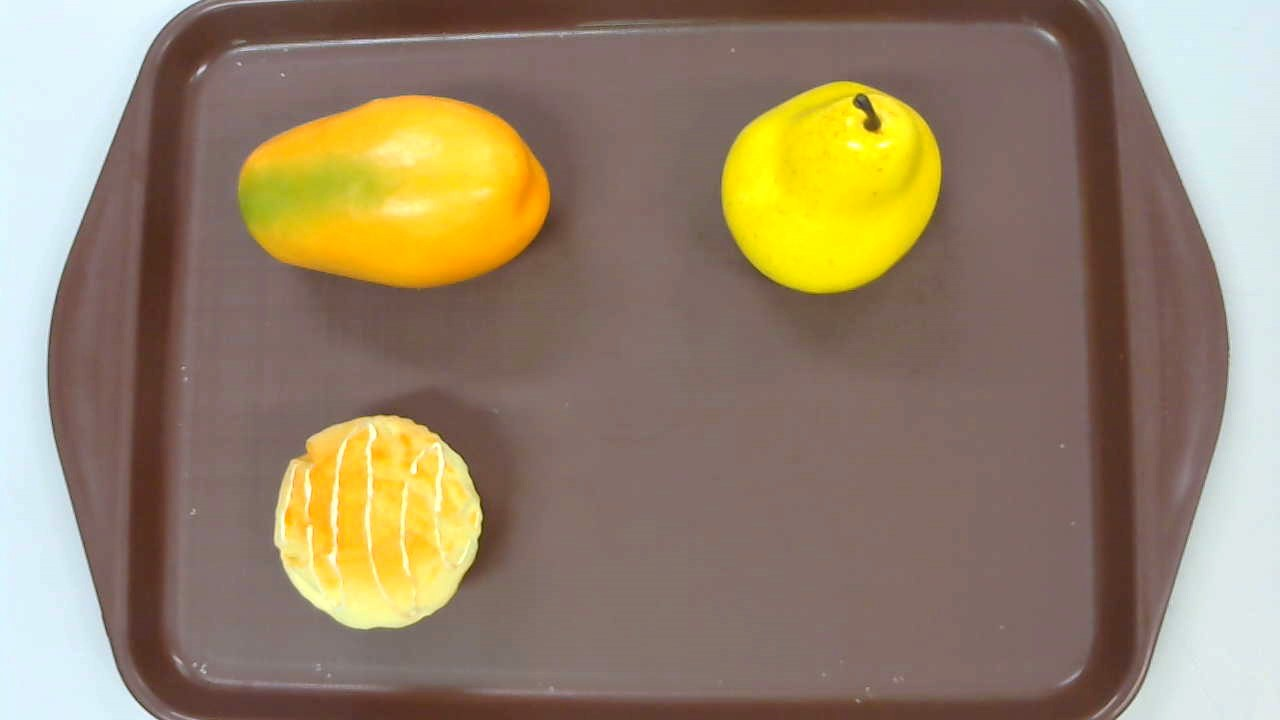cupcake: (273, 416, 484, 629)
papya: (237, 95, 550, 288)
yellow pear: (720, 80, 942, 296)
